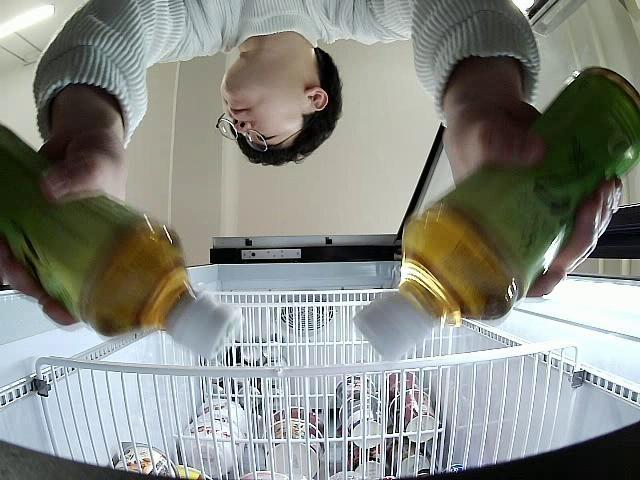19_17cha: (354, 66, 640, 359), (0, 124, 241, 363)
